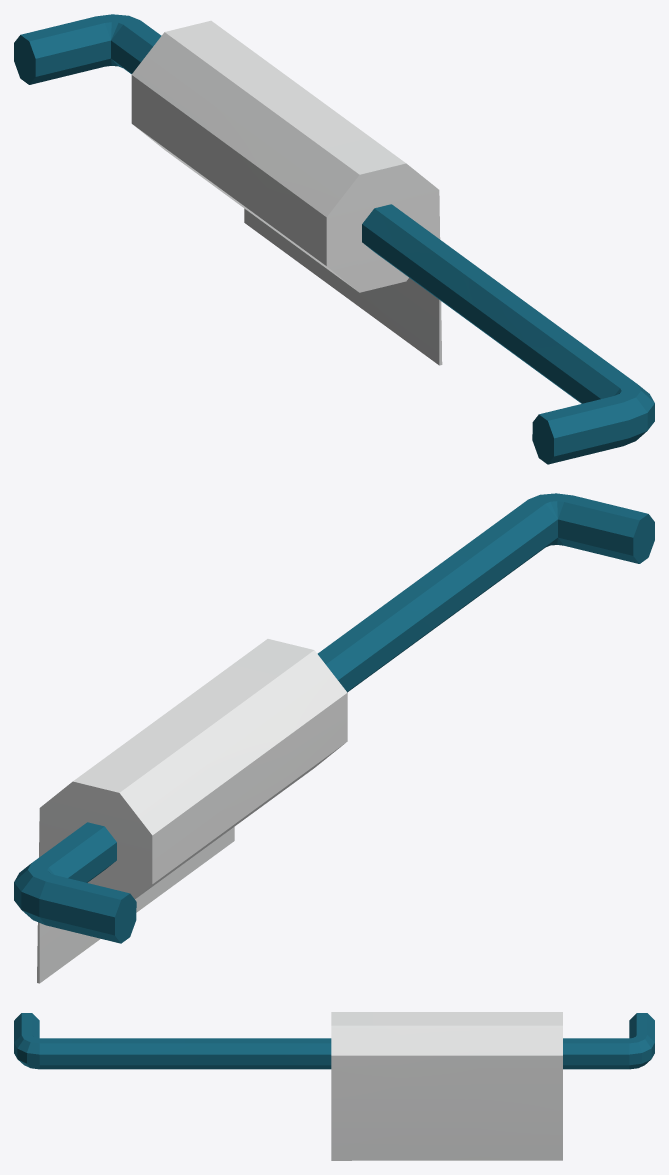
File: paper-towel2.glb
The picture shows the model from 3 angles, top to bottom: view 1: azimuth 30°, elevation 25°; view 2: azimuth 150°, elevation 25°; view 3: azimuth 270°, elevation 25°; orthographic projection. The views are drawn at different scales.
Visible parts, largest first — view 1: PaperTowel2.001; view 2: PaperTowel2.001; view 3: PaperTowel2.001.
Part boxes in pixels (box(x1,y1,x2,y2)): PaperTowel2.001: box(14, 14, 654, 464); PaperTowel2.001: box(14, 493, 654, 983); PaperTowel2.001: box(14, 1012, 654, 1160).
Bounding box in the file's own units: 0.133 × 0.1718 × 0.8.
1 material, 1 textured.
